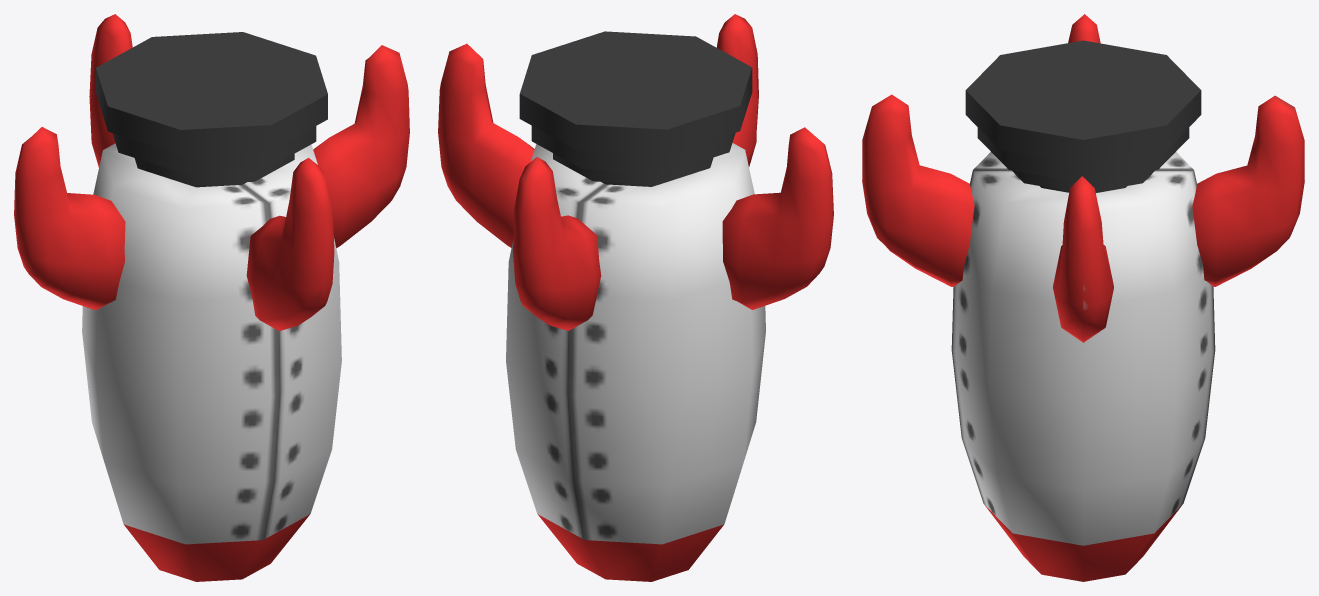
The model's file is Nave.fbx.
3 views of the same model, side by side, from view 1: azimuth 30°, elevation 25°; view 2: azimuth 150°, elevation 25°; view 3: azimuth 270°, elevation 25° (orthographic). The views are drawn at different scales.
Parts seen in each view (by area): view 1: Circle.002; view 2: Circle.002; view 3: Circle.002.
Part boxes in pixels (x1=…): Circle.002: x1=14, y1=14, x2=409, y2=581; Circle.002: x1=438, y1=14, x2=833, y2=581; Circle.002: x1=862, y1=14, x2=1304, y2=581.
Bounding box in the file's own units: 425 × 494 × 425.
